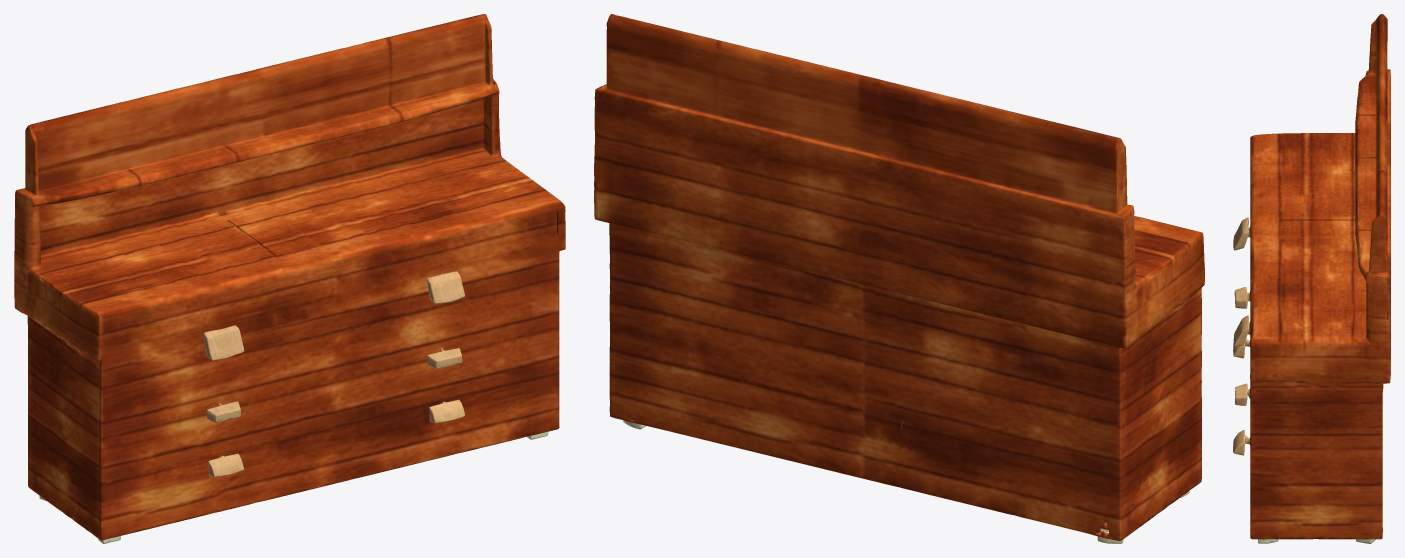
Rendered from wooden_1.glb.
The picture shows the model from 3 angles, left to right: view 1: azimuth 30°, elevation 25°; view 2: azimuth 150°, elevation 25°; view 3: azimuth 270°, elevation 25°; orthographic projection. The views are drawn at different scales.
Parts seen in each view (by area): view 1: geometry_0; view 2: geometry_0; view 3: geometry_0.
Boxes of the visible parts, left/top/right/bottom form: geometry_0: left=14, top=14, right=565, bottom=543; geometry_0: left=594, top=14, right=1204, bottom=543; geometry_0: left=1233, top=14, right=1390, bottom=543.
Size of the model in its own units: 1 by 0.7431 by 0.3194.
Materials: 1 (1 with a texture image).
